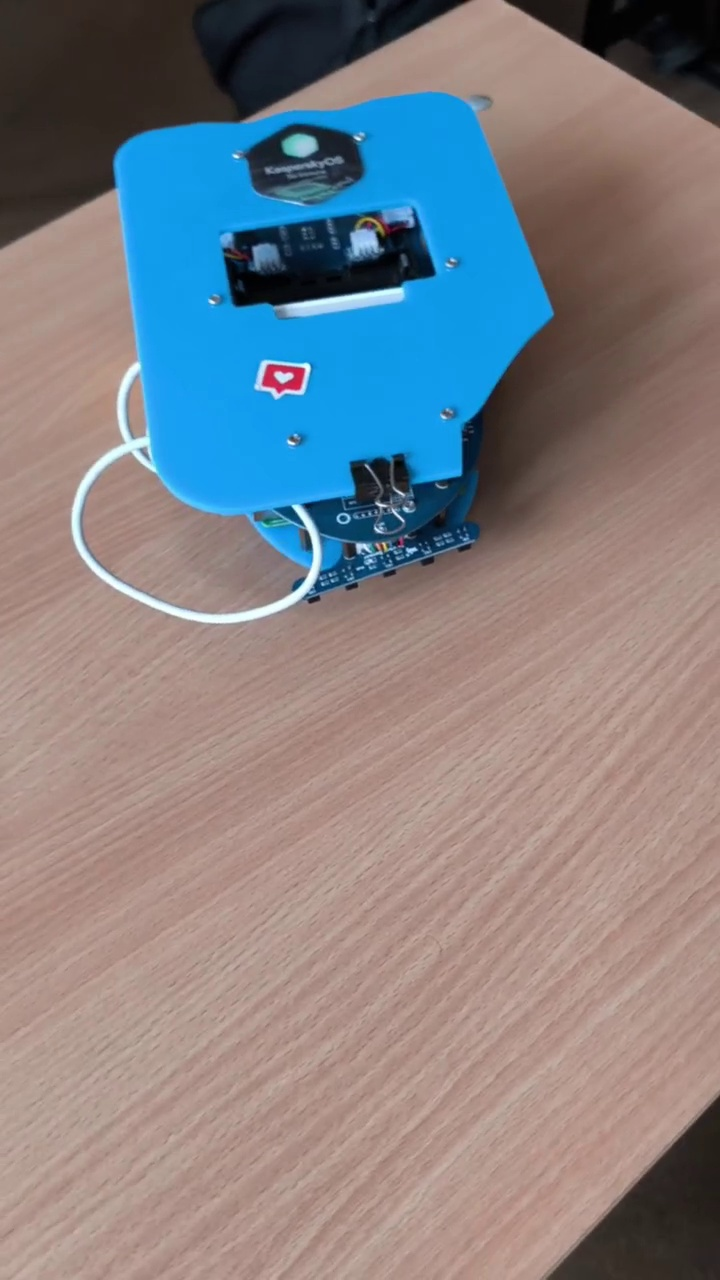robot: (69, 92, 554, 628)
